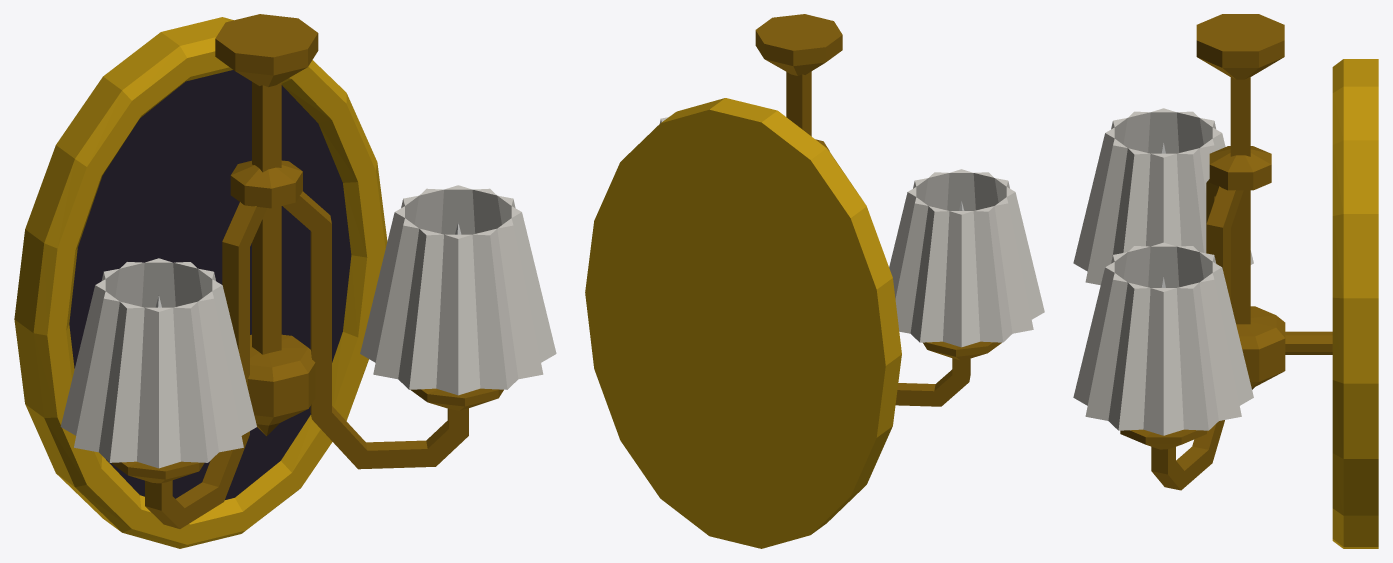
File: double-arm-wall-sconce-5436d6.glb
3 views of the same model, side by side, from view 1: azimuth 30°, elevation 25°; view 2: azimuth 150°, elevation 25°; view 3: azimuth 270°, elevation 25° (orthographic). The views are drawn at different scales.
Parts seen in each view (by area): view 1: sconce; view 2: sconce; view 3: sconce.
Boxes of the visible parts, x1,y1,x2,y2 form: sconce: (14, 14, 556, 548); sconce: (585, 14, 1044, 548); sconce: (1073, 14, 1378, 548).
Size of the model in its own units: 0.596 by 0.663 by 0.365.
